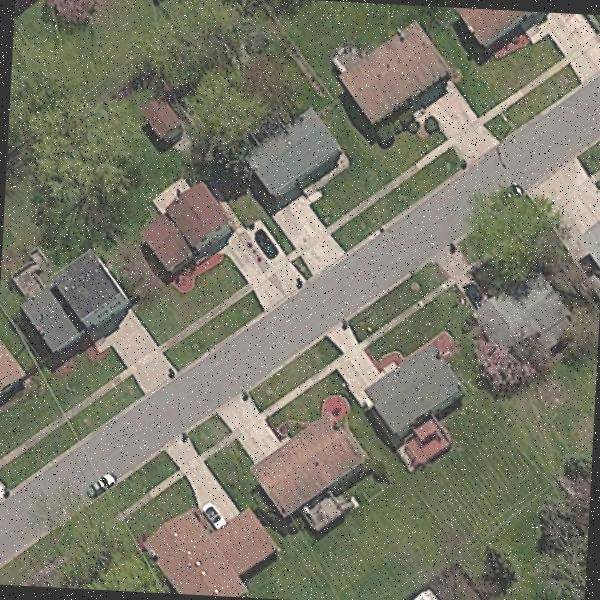Buildings: (248, 423, 366, 512), (150, 522, 270, 598), (346, 24, 442, 115), (38, 256, 127, 351), (146, 178, 228, 274), (251, 104, 330, 188), (371, 358, 468, 424), (476, 287, 564, 349), (453, 8, 542, 53), (0, 348, 29, 405), (142, 106, 183, 144)
